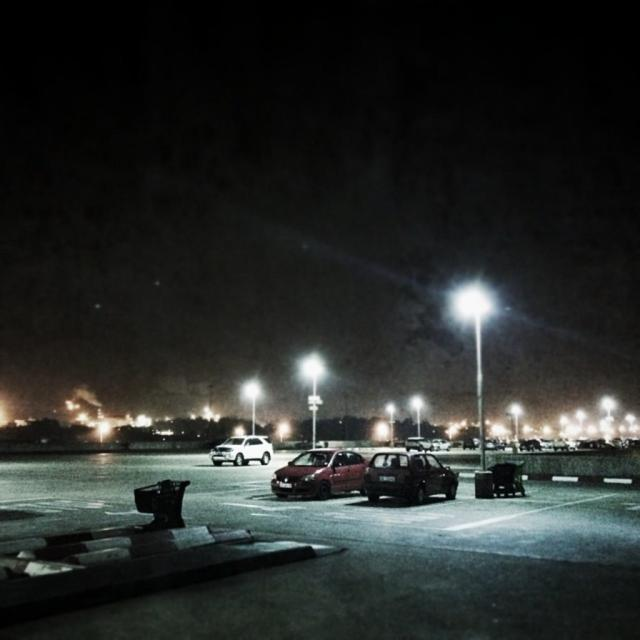car: (212, 435, 269, 466)
